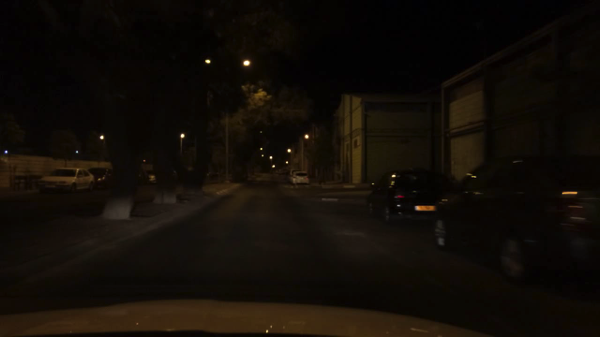car: (432, 157, 599, 286), (366, 168, 457, 225), (37, 167, 94, 194), (88, 167, 115, 190), (147, 166, 178, 184), (290, 172, 309, 186), (134, 169, 149, 186), (287, 169, 300, 183), (206, 172, 220, 179), (274, 169, 288, 176)
